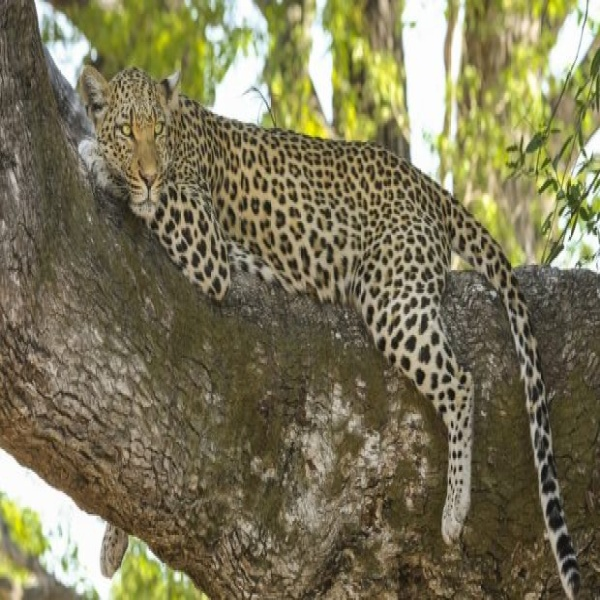Leopard: (78, 57, 600, 597)
